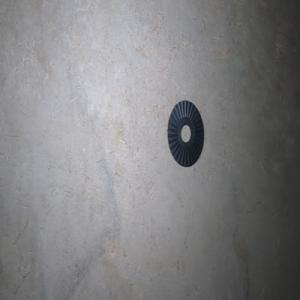Washer: (167, 100, 204, 167)
